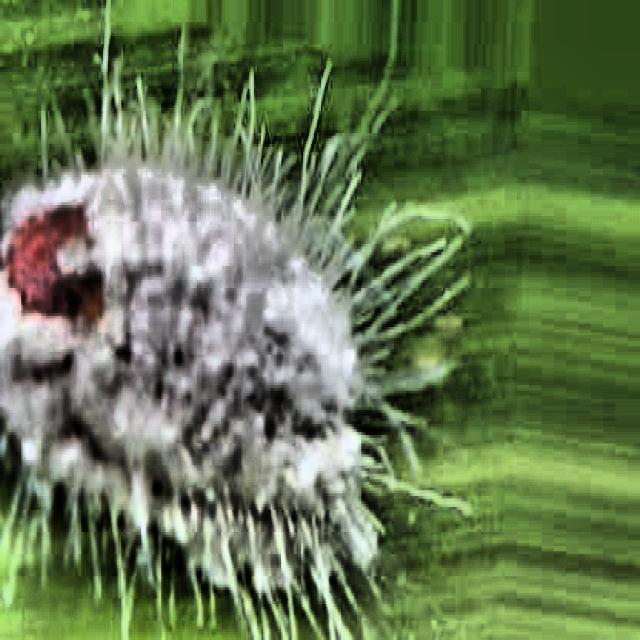Mealy-bug: (0, 41, 431, 632)
